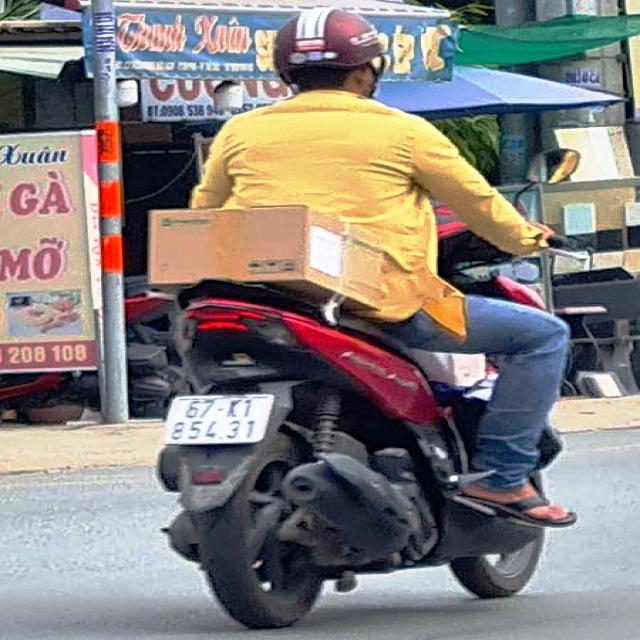license_plate: (167, 393, 281, 445)
